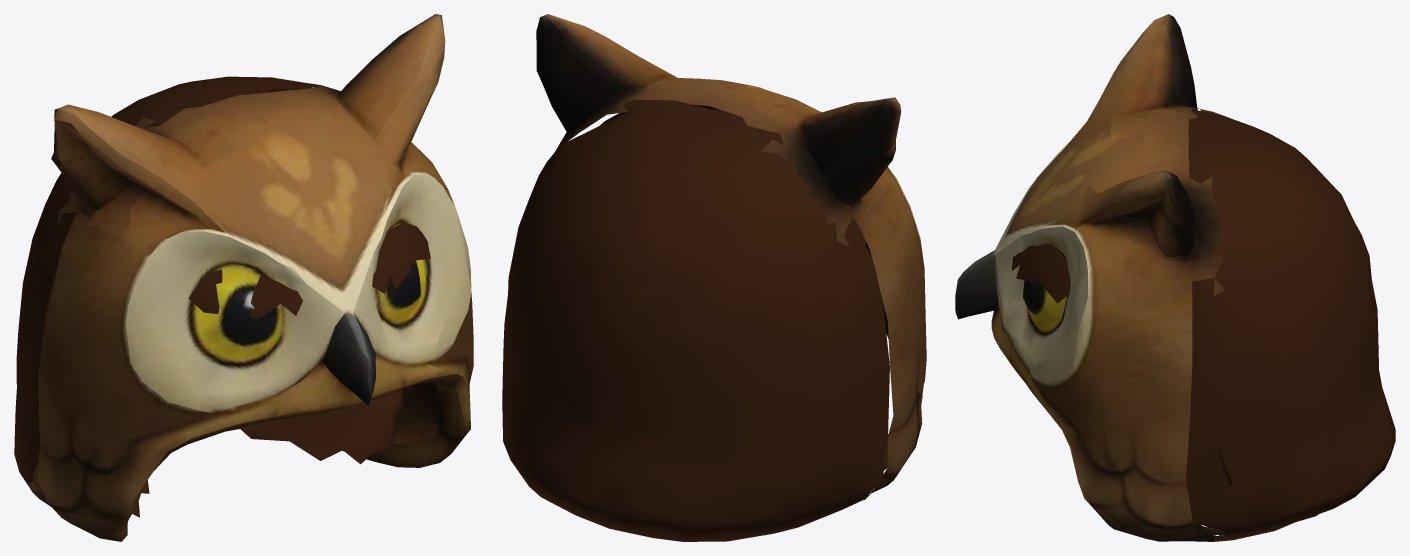
The model's file is owl.glb.
3 renders of one model, left to right at view 1: azimuth 30°, elevation 25°; view 2: azimuth 150°, elevation 25°; view 3: azimuth 270°, elevation 25°, orthographic. The views are drawn at different scales.
Parts seen in each view (by area): view 1: geometry_0, HoodAnatomicalLining; view 2: geometry_0; view 3: geometry_0, HoodAnatomicalLining.
Boxes of the visible parts, bbox=[...] form: geometry_0: bbox=[14, 14, 473, 541]; HoodAnatomicalLining: bbox=[51, 123, 430, 517]; geometry_0: bbox=[502, 14, 926, 541]; geometry_0: bbox=[955, 14, 1395, 541]; HoodAnatomicalLining: bbox=[1011, 178, 1232, 486].
Bounding box in the file's own units: 0.4896 × 0.5198 × 0.5325.
Materials: 2 (1 with a texture image).
